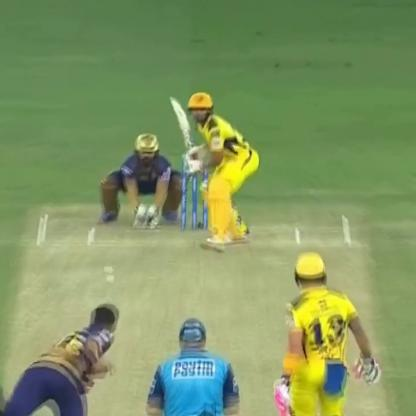ball: (95, 264, 121, 272), (102, 271, 116, 285)
bat: (166, 94, 200, 160)
pitch: (13, 209, 385, 416)
